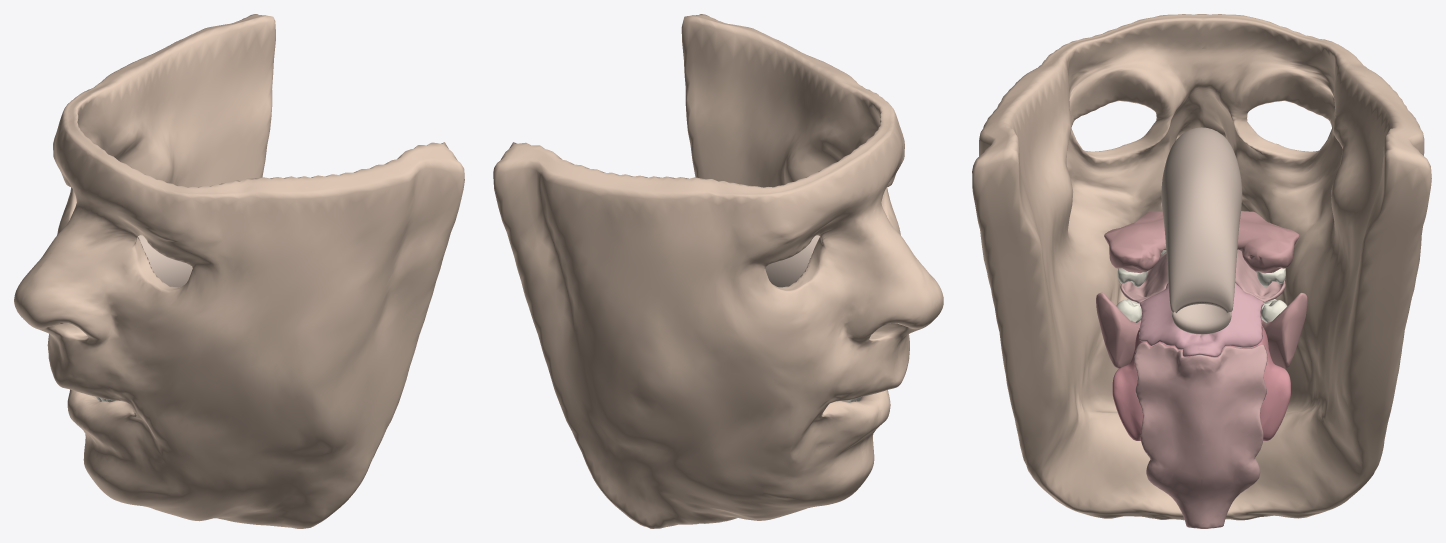
The model's file is baseline.glb.
3 renders of one model, left to right at view 1: azimuth 30°, elevation 25°; view 2: azimuth 150°, elevation 25°; view 3: azimuth 270°, elevation 25°, orthographic. The views are drawn at different scales.
Parts seen in each view (by area): view 1: skin, nasal_wall; view 2: skin, nasal_wall; view 3: skin, oral_wall, nasal_wall, upper-gum, soft_palate, lower-gum, tongue.
Boxes of the visible parts, <box> form: skin: <box>14,14,464,528</box>; nasal_wall: <box>60,235,192,323</box>; skin: <box>493,14,943,528</box>; nasal_wall: <box>765,235,897,323</box>; skin: <box>972,14,1431,520</box>; oral_wall: <box>1120,249,1285,528</box>; nasal_wall: <box>1161,127,1242,334</box>; upper-gum: <box>1104,211,1299,273</box>; soft_palate: <box>1139,283,1263,356</box>; lower-gum: <box>1096,292,1307,368</box>; tongue: <box>1112,326,1290,440</box>.
Size of the model in its own units: 0.155 by 0.1732 by 0.1649.
